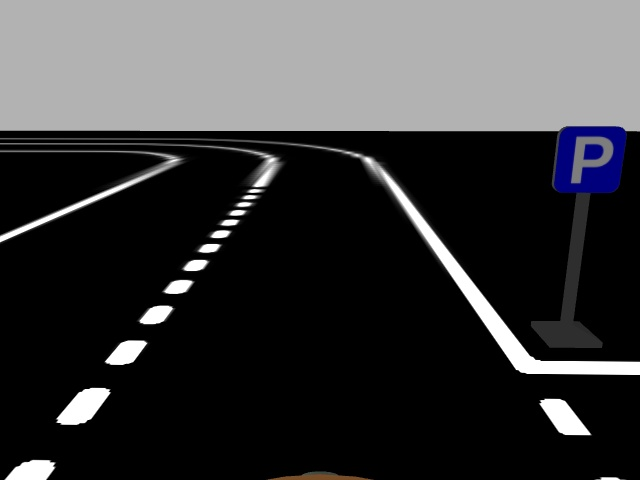parking: (550, 124, 626, 192)
